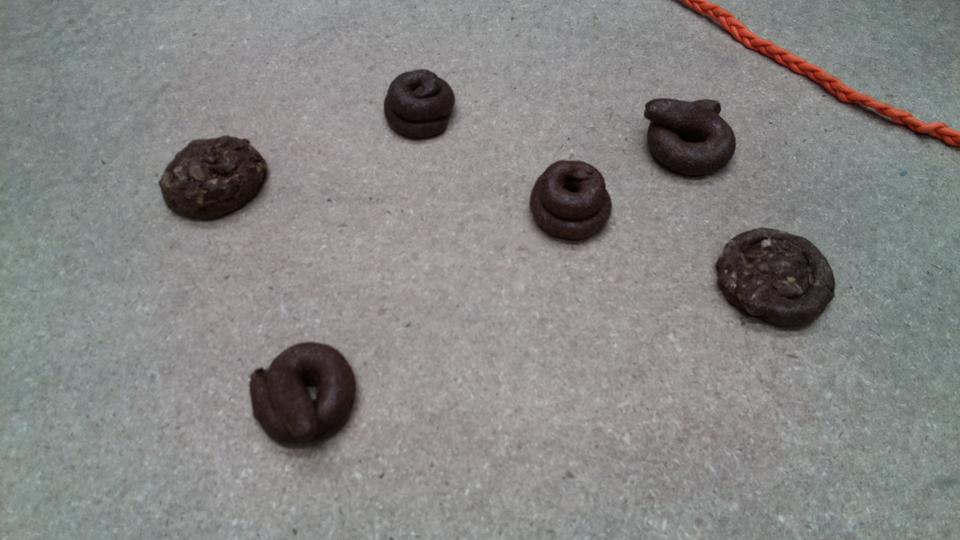poop: (711, 223, 840, 335), (245, 337, 359, 454), (155, 131, 274, 223), (641, 91, 738, 186), (526, 157, 615, 250), (381, 65, 457, 143)
rope: (692, 1, 960, 131)
